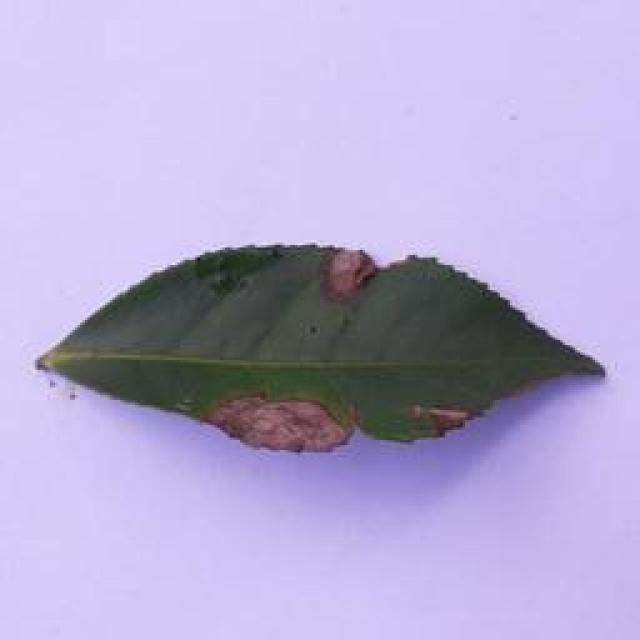Gray Blight: (29, 237, 610, 461)
